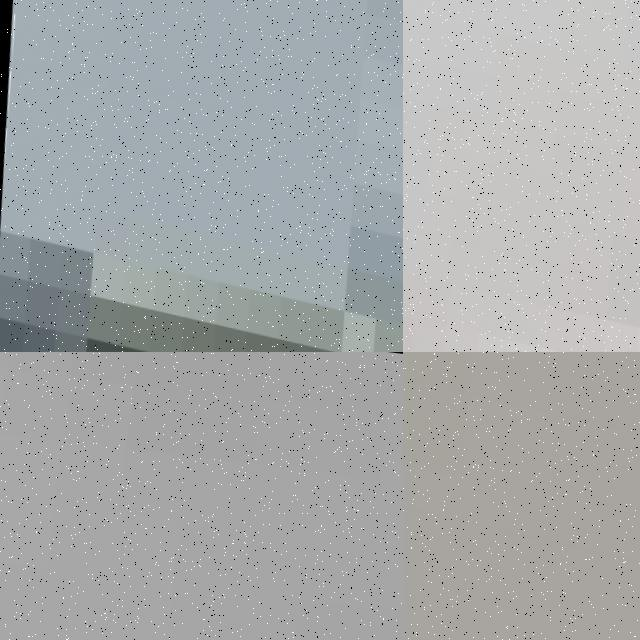0: (0, 0, 403, 352)
drone: (403, 0, 640, 352), (403, 352, 640, 640)
